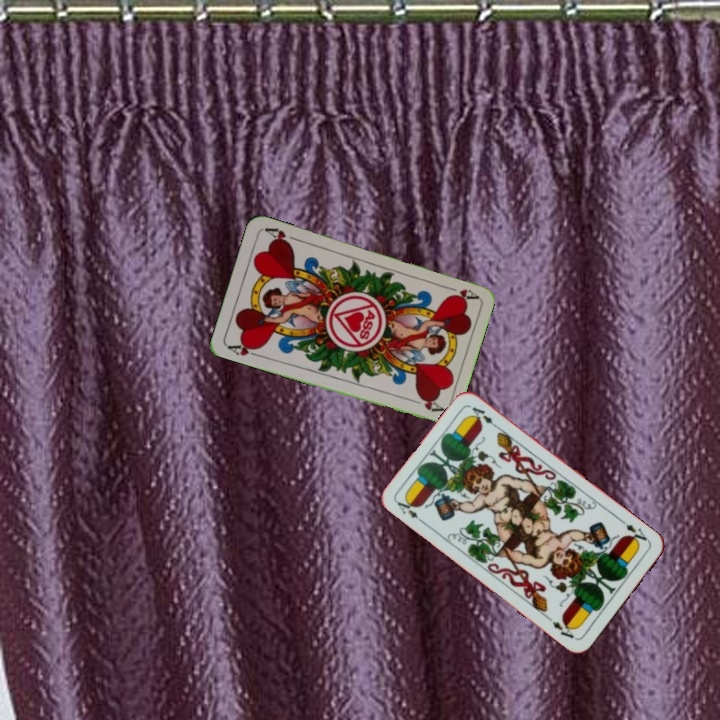EA: (392, 494, 427, 526), (616, 516, 652, 547)
HA: (223, 338, 264, 360), (440, 281, 480, 302)
